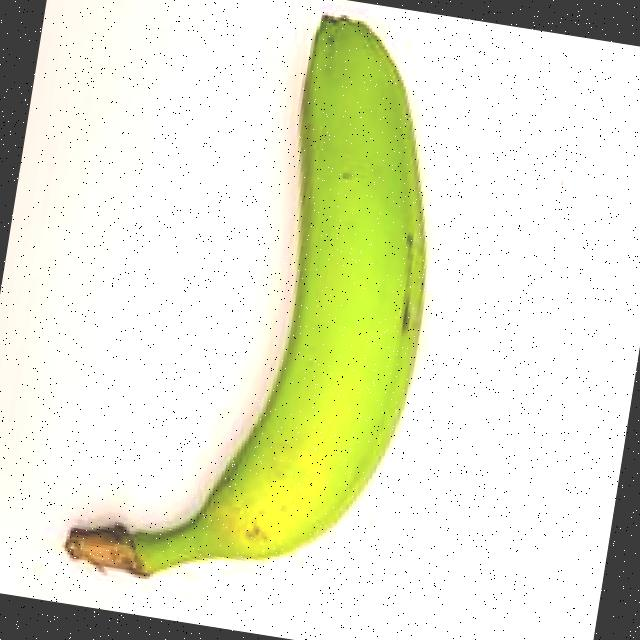Unripe: (47, 0, 508, 637)
